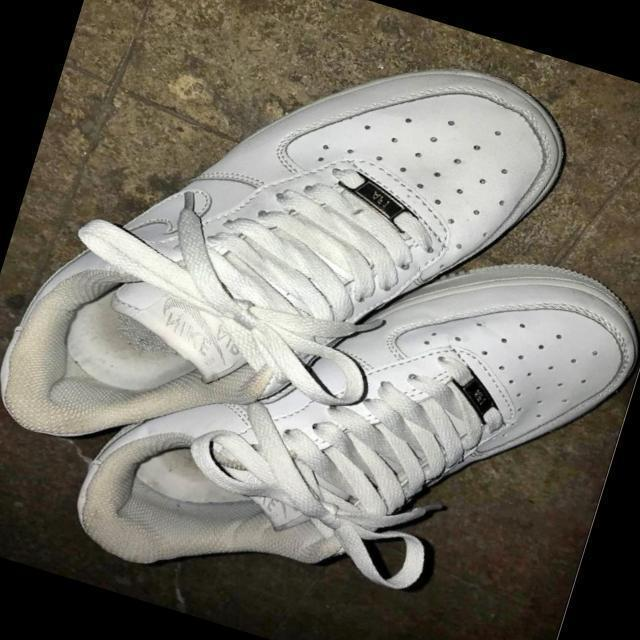nike fake air force: (0, 0, 584, 558), (61, 150, 640, 640)
